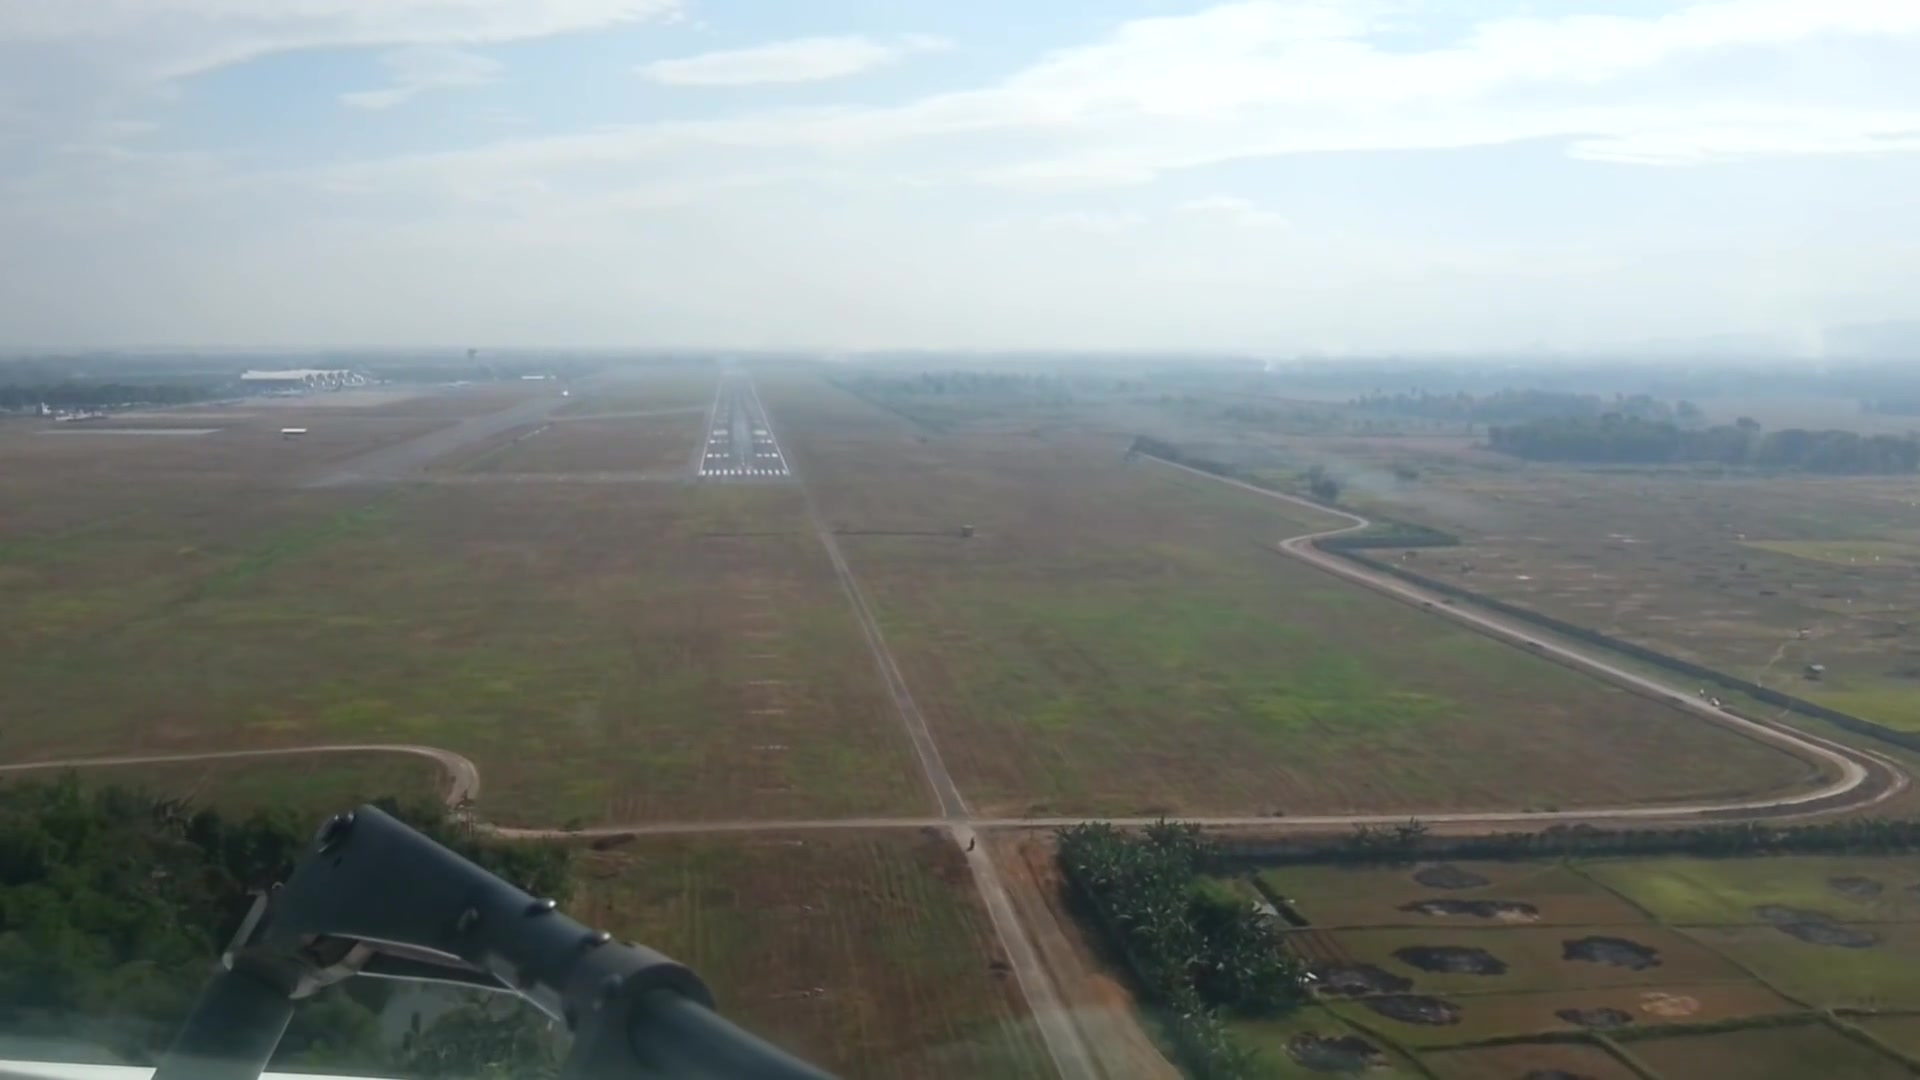entrance: (698, 464, 786, 479)
runway: (692, 360, 789, 483)
